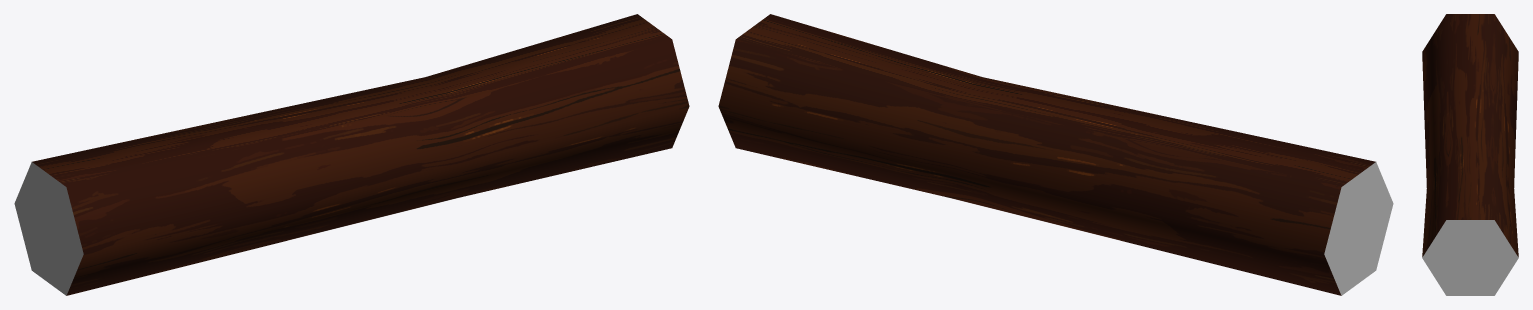
File: SM_PROP_treetrunk_02.fbx
3 renders of one model, left to right at view 1: azimuth 30°, elevation 25°; view 2: azimuth 150°, elevation 25°; view 3: azimuth 270°, elevation 25°, orthographic. The views are drawn at different scales.
Parts seen in each view (by area): view 1: SM_PROP_treetrunk_02; view 2: SM_PROP_treetrunk_02; view 3: SM_PROP_treetrunk_02.
Boxes of the visible parts, <box> form: SM_PROP_treetrunk_02: <box>14,14,689,295</box>; SM_PROP_treetrunk_02: <box>718,14,1393,295</box>; SM_PROP_treetrunk_02: <box>1422,14,1518,295</box>.
Size of the model in its own units: 459 by 78.84 by 91.04.
